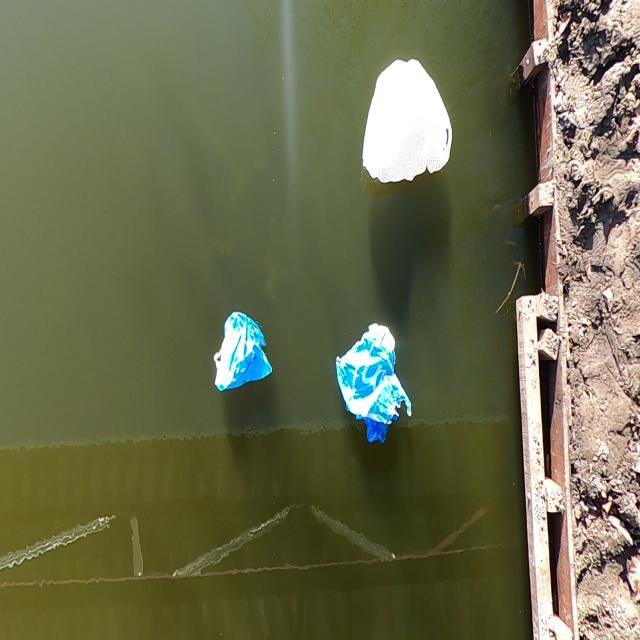Sac plastique: (354, 46, 456, 190), (335, 320, 418, 450), (204, 301, 277, 402)
